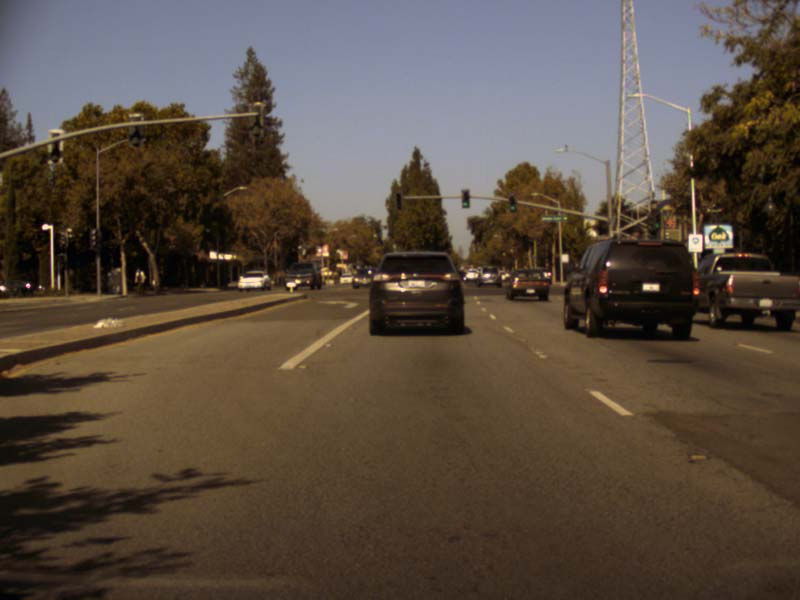Green: (461, 189, 469, 208), (509, 196, 516, 212), (655, 213, 660, 229)
